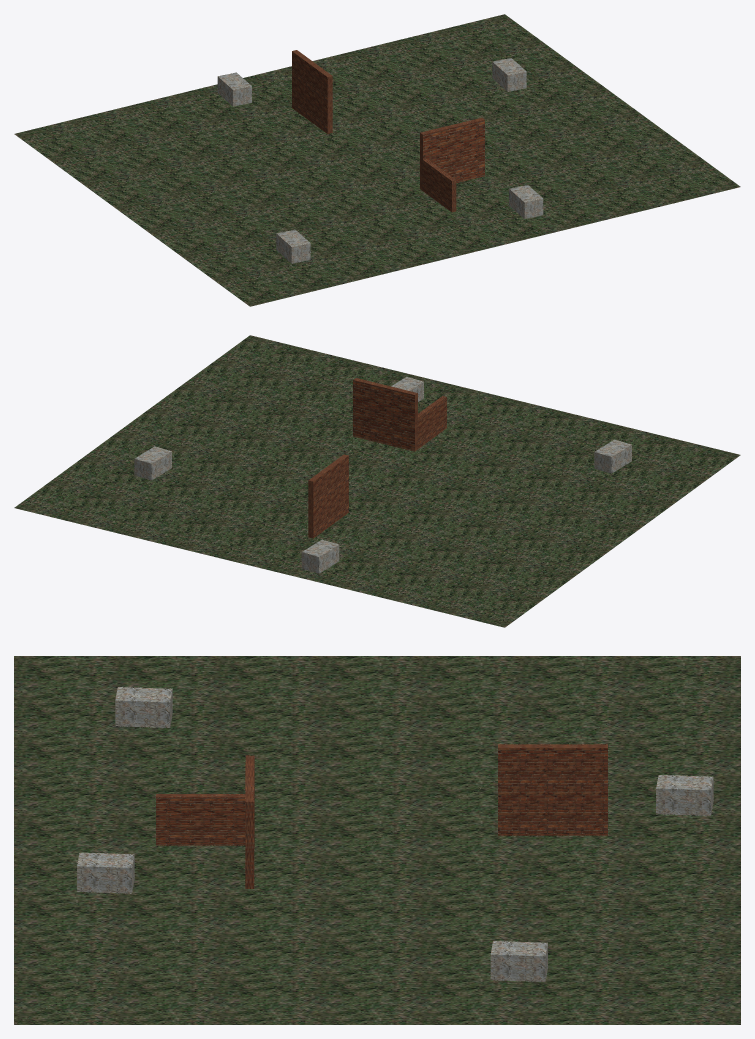
Rendered from cenaPaintball.obj.
The picture shows the model from 3 angles, top to bottom: view 1: azimuth 30°, elevation 25°; view 2: azimuth 150°, elevation 25°; view 3: azimuth 270°, elevation 25°; orthographic projection. The views are drawn at different scales.
Visible parts, largest first — view 1: polySurface23 chao chao, prd_2 prd_2, polySurface23 prd_1 prd_1, cx_1 cx polySurface23, polySurface23 cx_4 cx_3, polySurface23 cx_2 cx1, polySurface23 cx_3 cx_2; view 2: polySurface23 chao chao, prd_2 prd_2, polySurface23 prd_1 prd_1, polySurface23 cx_3 cx_2, polySurface23 cx_2 cx1, polySurface23 cx_4 cx_3; view 3: polySurface23 chao chao, polySurface23 prd_1 prd_1, prd_2 prd_2, polySurface23 cx_4 cx_3, cx_1 cx polySurface23, polySurface23 cx_3 cx_2, polySurface23 cx_2 cx1.
Boxes of the visible parts, x1=… form: polySurface23 chao chao: x1=14, y1=14, x2=740, y2=306; prd_2 prd_2: x1=420, y1=117, x2=484, y2=212; polySurface23 prd_1 prd_1: x1=292, y1=50, x2=332, y2=133; cx_1 cx polySurface23: x1=509, y1=185, x2=543, y2=218; polySurface23 cx_4 cx_3: x1=276, y1=229, x2=310, y2=263; polySurface23 cx_2 cx1: x1=492, y1=58, x2=526, y2=91; polySurface23 cx_3 cx_2: x1=217, y1=72, x2=251, y2=106; polySurface23 chao chao: x1=14, y1=335, x2=740, y2=627; prd_2 prd_2: x1=353, y1=378, x2=446, y2=451; polySurface23 prd_1 prd_1: x1=308, y1=454, x2=348, y2=538; polySurface23 cx_3 cx_2: x1=301, y1=539, x2=339, y2=573; polySurface23 cx_2 cx1: x1=134, y1=446, x2=171, y2=480; polySurface23 cx_4 cx_3: x1=594, y1=439, x2=631, y2=473; polySurface23 chao chao: x1=14, y1=656, x2=740, y2=1024; polySurface23 prd_1 prd_1: x1=498, y1=744, x2=607, y2=835; prd_2 prd_2: x1=156, y1=755, x2=254, y2=888; polySurface23 cx_4 cx_3: x1=115, y1=687, x2=172, y2=727; cx_1 cx polySurface23: x1=77, y1=852, x2=134, y2=893; polySurface23 cx_3 cx_2: x1=656, y1=775, x2=713, y2=815; polySurface23 cx_2 cx1: x1=490, y1=941, x2=547, y2=981.
Bounding box in the file's own units: 84.25 × 9.46 × 70.19.
